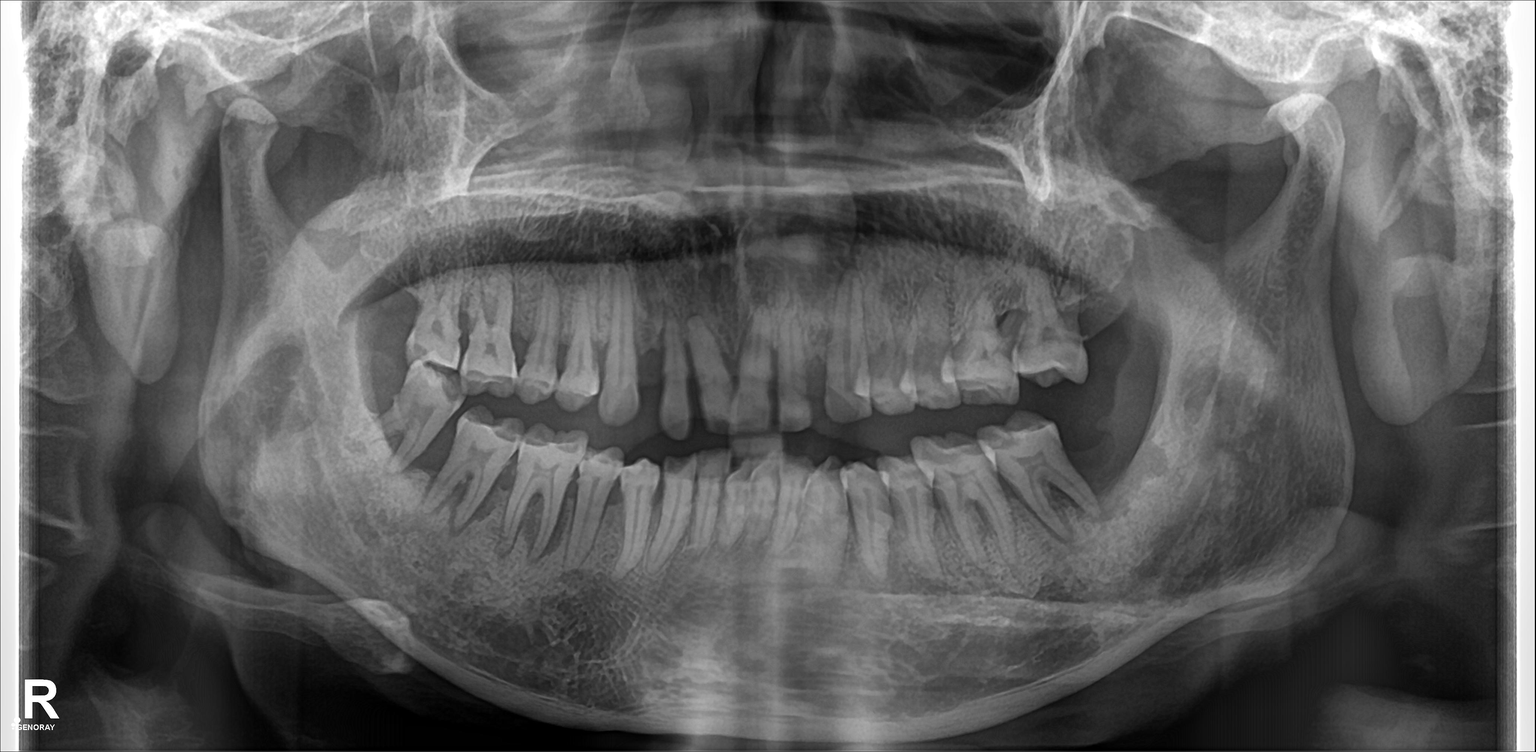Impacted Third Molar: (371, 370, 457, 468)
Missing Tooth: (1073, 275, 1128, 375), (362, 272, 419, 362), (1073, 411, 1138, 489), (631, 311, 666, 411)
